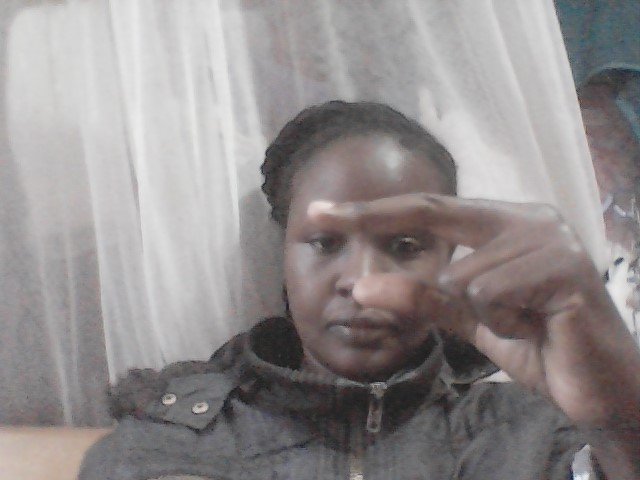No: (298, 183, 640, 444)
